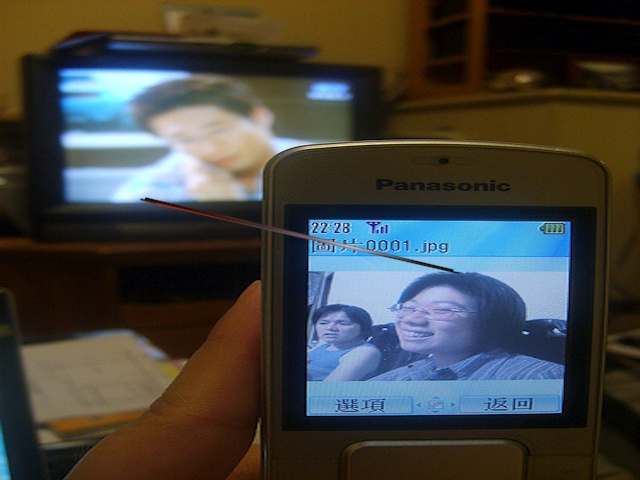ruler: (129, 192, 464, 280)
